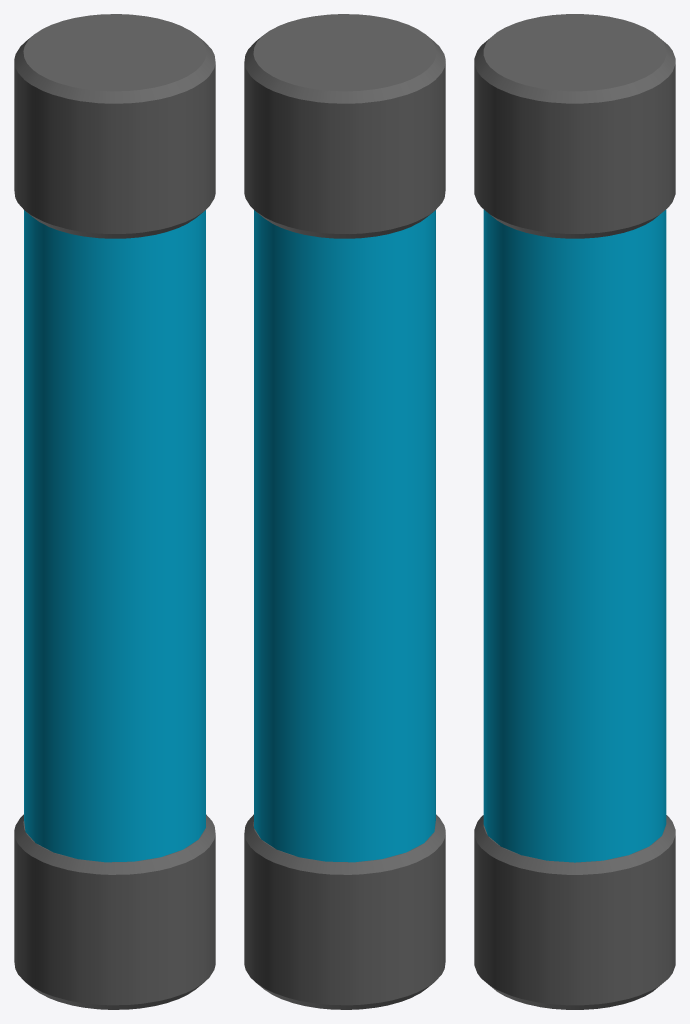
The model's file is BlueGlowstickV1.fbx.
3 renders of one model, left to right at view 1: azimuth 30°, elevation 25°; view 2: azimuth 150°, elevation 25°; view 3: azimuth 270°, elevation 25°, orthographic.
Visible parts, largest first — view 1: BlueGlowstick; view 2: BlueGlowstick; view 3: BlueGlowstick.
Boxes of the visible parts, x1,y1,x2,y2 form: BlueGlowstick: (14,14,215,1009); BlueGlowstick: (244,14,445,1009); BlueGlowstick: (474,14,675,1009).
Bounding box in the file's own units: 2.87 × 14.48 × 2.87.
